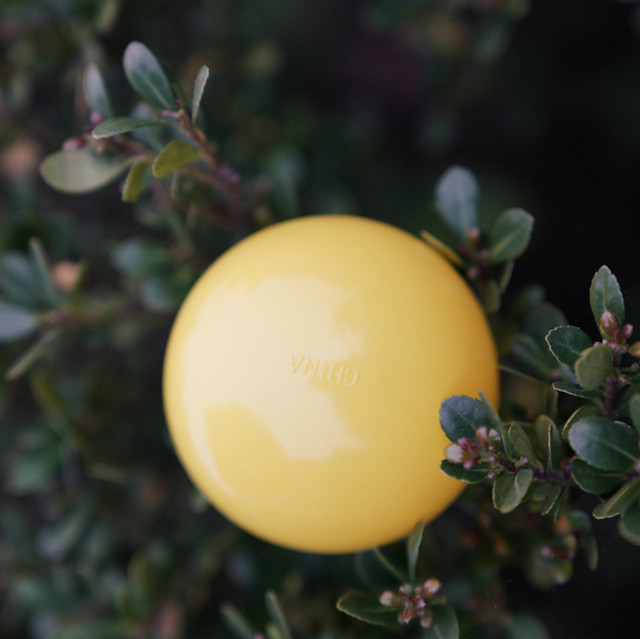Ball: (166, 220, 499, 552)
